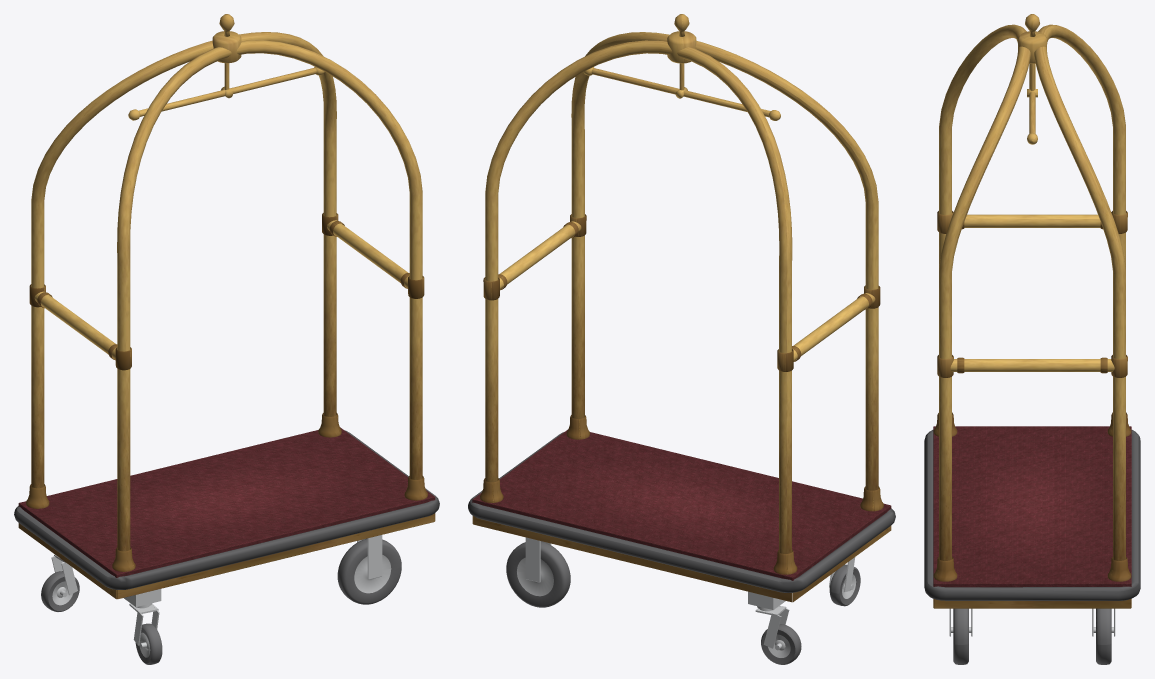
Rendered from hotel-luggage-cart-brass.glb.
3 renders of one model, left to right at view 1: azimuth 30°, elevation 25°; view 2: azimuth 150°, elevation 25°; view 3: azimuth 270°, elevation 25°, orthographic.
Visible parts, largest first — view 1: brass_worn, deck_carpet, grey_rubber, caster_l, caster_r, zinc_steel; view 2: brass_worn, deck_carpet, grey_rubber, caster_l, zinc_steel, caster_r; view 3: brass_worn, deck_carpet, grey_rubber.
Boxes of the visible parts, <box> form: brass_worn: <box>18,14,435,599</box>; deck_carpet: <box>18,427,435,577</box>; grey_rubber: <box>14,430,439,604</box>; caster_l: <box>41,554,79,611</box>; caster_r: <box>129,603,162,664</box>; zinc_steel: <box>124,535,382,606</box>; brass_worn: <box>472,14,891,602</box>; deck_carpet: <box>472,429,891,580</box>; grey_rubber: <box>468,432,895,607</box>; caster_l: <box>755,605,801,664</box>; zinc_steel: <box>525,537,785,609</box>; caster_r: <box>829,557,860,606</box>; brass_worn: <box>933,14,1131,608</box>; deck_carpet: <box>933,426,1131,587</box>; grey_rubber: <box>924,430,1140,664</box>.
Size of the model in its own units: 1.12 by 1.88 by 0.6218.
4 materials, 2 textured.
